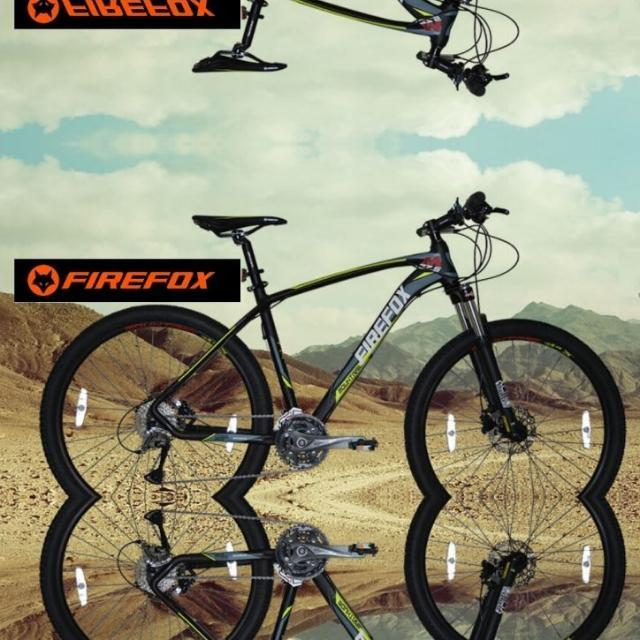obstacle: (21, 182, 640, 496), (20, 496, 639, 640), (20, 0, 639, 104)
